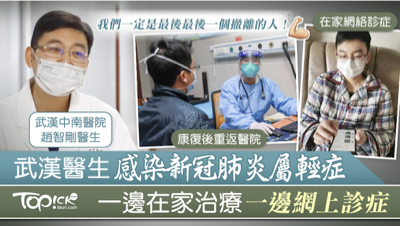with_mask: (32, 35, 89, 96), (336, 47, 367, 80), (186, 62, 200, 93), (241, 56, 261, 77)
